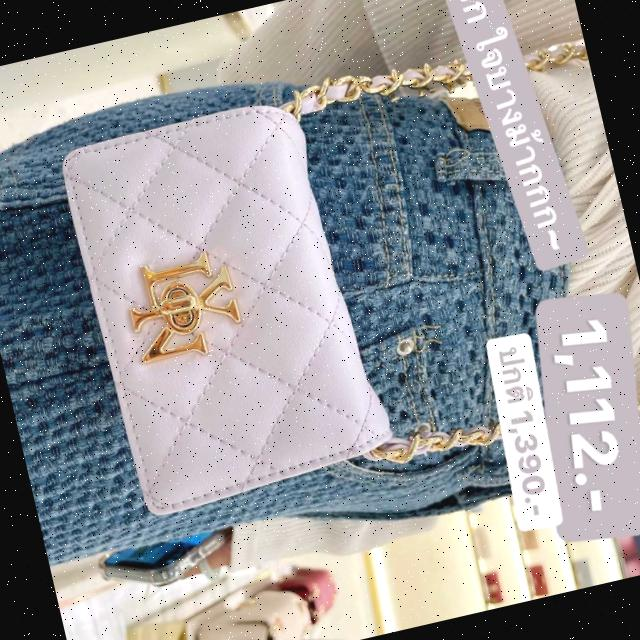Handbag: (33, 64, 411, 542)
